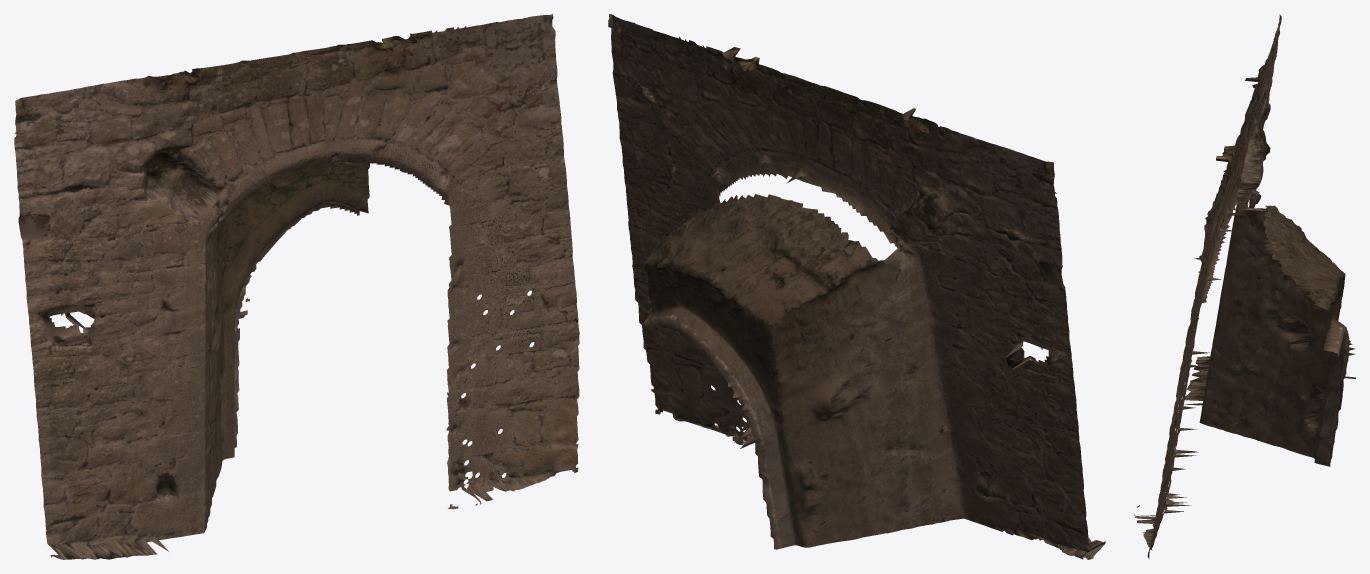
Rendered from hewn_archway.glb.
3 renders of one model, left to right at view 1: azimuth 30°, elevation 25°; view 2: azimuth 150°, elevation 25°; view 3: azimuth 270°, elevation 25°, orthographic. The views are drawn at different scales.
Parts seen in each view (by area): view 1: DampStoneVault; view 2: DampStoneVault; view 3: DampStoneVault.
Part boxes in pixels (x1=…): DampStoneVault: x1=14, y1=14, x2=579, y2=559; DampStoneVault: x1=608, y1=14, x2=1105, y2=559; DampStoneVault: x1=1134, y1=14, x2=1355, y2=558.
Size of the model in its own units: 6.24 by 5.17 by 2.95.
1 material, 1 textured.
